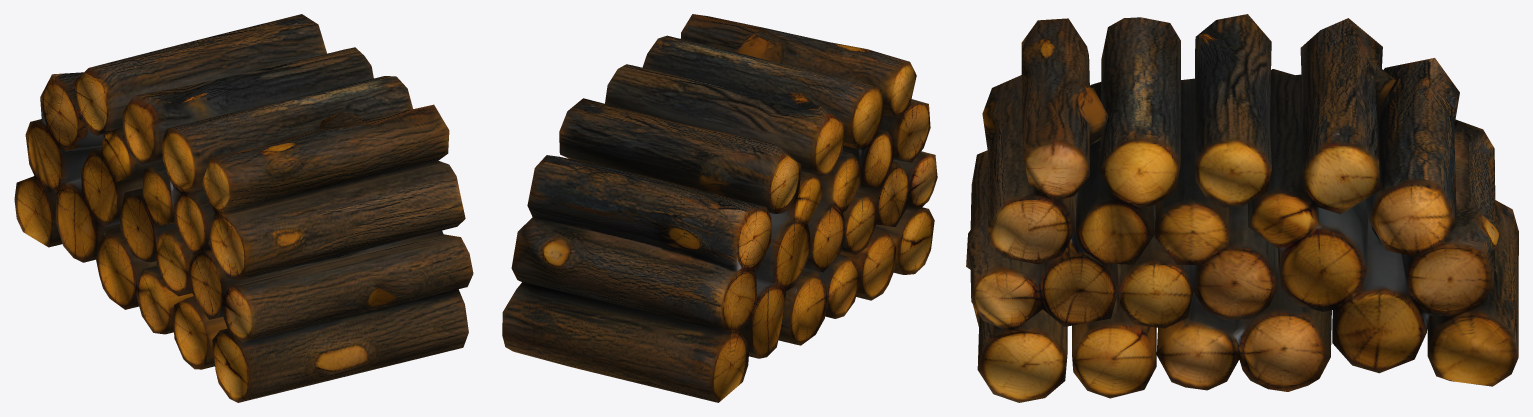
File: lumber.glb
3 views of the same model, side by side, from view 1: azimuth 30°, elevation 25°; view 2: azimuth 150°, elevation 25°; view 3: azimuth 270°, elevation 25° (orthographic). The views are drawn at different scales.
Visible parts, largest first — view 1: tripo_node_c6d7d3a4-0abf-4f73-b033-4bba1183feaf; view 2: tripo_node_c6d7d3a4-0abf-4f73-b033-4bba1183feaf; view 3: tripo_node_c6d7d3a4-0abf-4f73-b033-4bba1183feaf.
Boxes of the visible parts, <box> form: tripo_node_c6d7d3a4-0abf-4f73-b033-4bba1183feaf: <box>14,14,473,402</box>; tripo_node_c6d7d3a4-0abf-4f73-b033-4bba1183feaf: <box>502,14,937,402</box>; tripo_node_c6d7d3a4-0abf-4f73-b033-4bba1183feaf: <box>966,14,1518,402</box>.
Bounding box in the file's own units: 0.53 × 0.5379 × 0.9971.
Materials: 1 (1 with a texture image).
